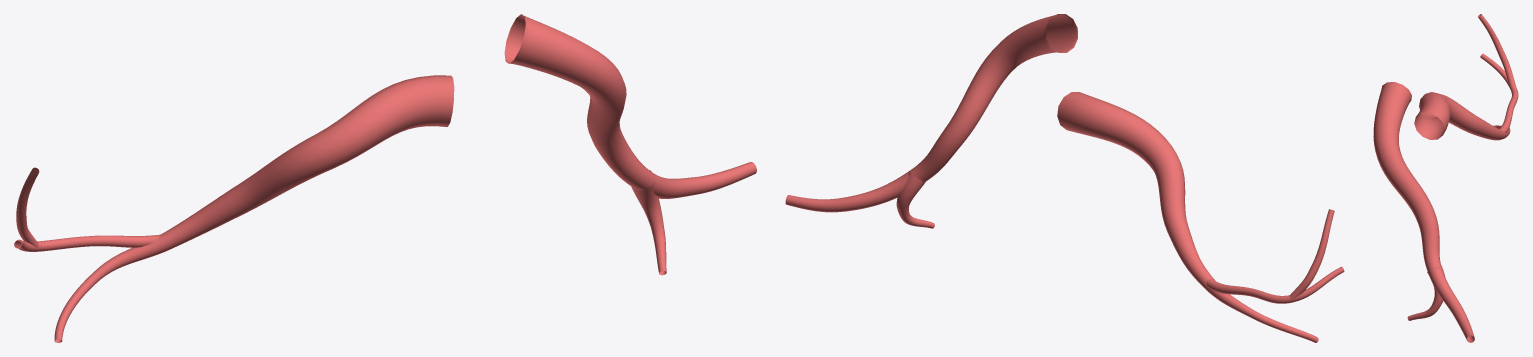
The model's file is Middle_genicular_artery.r_BezierCurve.250.glb.
The picture shows the model from 3 angles, left to right: view 1: azimuth 30°, elevation 25°; view 2: azimuth 150°, elevation 25°; view 3: azimuth 270°, elevation 25°; orthographic projection. The views are drawn at different scales.
Parts seen in each view (by area): view 1: Middle_genicular_artery.r_BezierCurve.250; view 2: Middle_genicular_artery.r_BezierCurve.250; view 3: Middle_genicular_artery.r_BezierCurve.250.
Boxes of the visible parts, <box> form: Middle_genicular_artery.r_BezierCurve.250: <box>14,14,756,342</box>; Middle_genicular_artery.r_BezierCurve.250: <box>785,14,1344,342</box>; Middle_genicular_artery.r_BezierCurve.250: <box>1373,14,1518,342</box>.
Bounding box in the file's own units: 0.0648 × 0.0258 × 0.0176.
